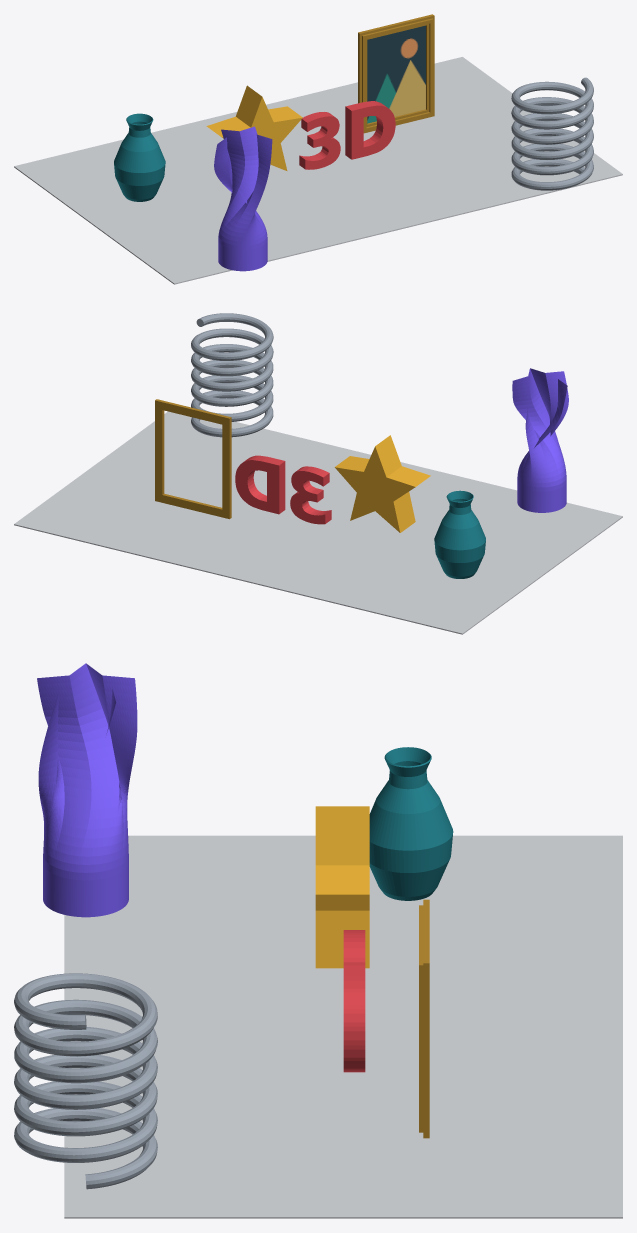
File: ish08.glb
3 views of the same model, one above another, from view 1: azimuth 30°, elevation 25°; view 2: azimuth 150°, elevation 25°; view 3: azimuth 270°, elevation 25° (orthographic). The views are drawn at different scales.
Parts seen in each view (by area): view 1: Pol, Prujina_Helix, Ustun_Loft, Kartina, Matn_3D, Vaza_Lathe, Rom_Sweep, Yulduz_Extrude; view 2: Pol, Prujina_Helix, Ustun_Loft, Yulduz_Extrude, Matn_3D, Vaza_Lathe, Rom_Sweep; view 3: Pol, Prujina_Helix, Ustun_Loft, Vaza_Lathe, Yulduz_Extrude, Matn_3D, Rom_Sweep.
Boxes of the visible parts, left/top/right/bottom form: Pol: left=14, top=57, right=622, bottom=284; Prujina_Helix: left=511, top=77, right=593, bottom=190; Ustun_Loft: left=214, top=126, right=272, bottom=271; Kartina: left=367, top=25, right=425, bottom=123; Matn_3D: left=299, top=101, right=395, bottom=169; Vaza_Lathe: left=114, top=113, right=165, bottom=201; Rom_Sweep: left=358, top=14, right=434, bottom=133; Yulduz_Extrude: left=206, top=85, right=302, bottom=170; Pol: left=14, top=411, right=622, bottom=634; Prujina_Helix: left=191, top=313, right=273, bottom=437; Ustun_Loft: left=512, top=368, right=568, bottom=512; Yulduz_Extrude: left=334, top=435, right=430, bottom=532; Matn_3D: left=235, top=455, right=331, bottom=524; Vaza_Lathe: left=434, top=490, right=485, bottom=578; Rom_Sweep: left=155, top=399, right=231, bottom=519; Pol: left=64, top=835, right=622, bottom=1218; Prujina_Helix: left=14, top=973, right=157, bottom=1189; Ustun_Loft: left=37, top=663, right=137, bottom=917; Vaza_Lathe: left=369, top=747, right=453, bottom=900; Yulduz_Extrude: left=315, top=806, right=369, bottom=968; Matn_3D: left=343, top=930, right=365, bottom=1072; Rom_Sweep: left=419, top=899, right=429, bottom=1138.
Size of the model in its own units: 4.2 by 1.11 by 2.83.
Materials: 8 (1 with a texture image).
